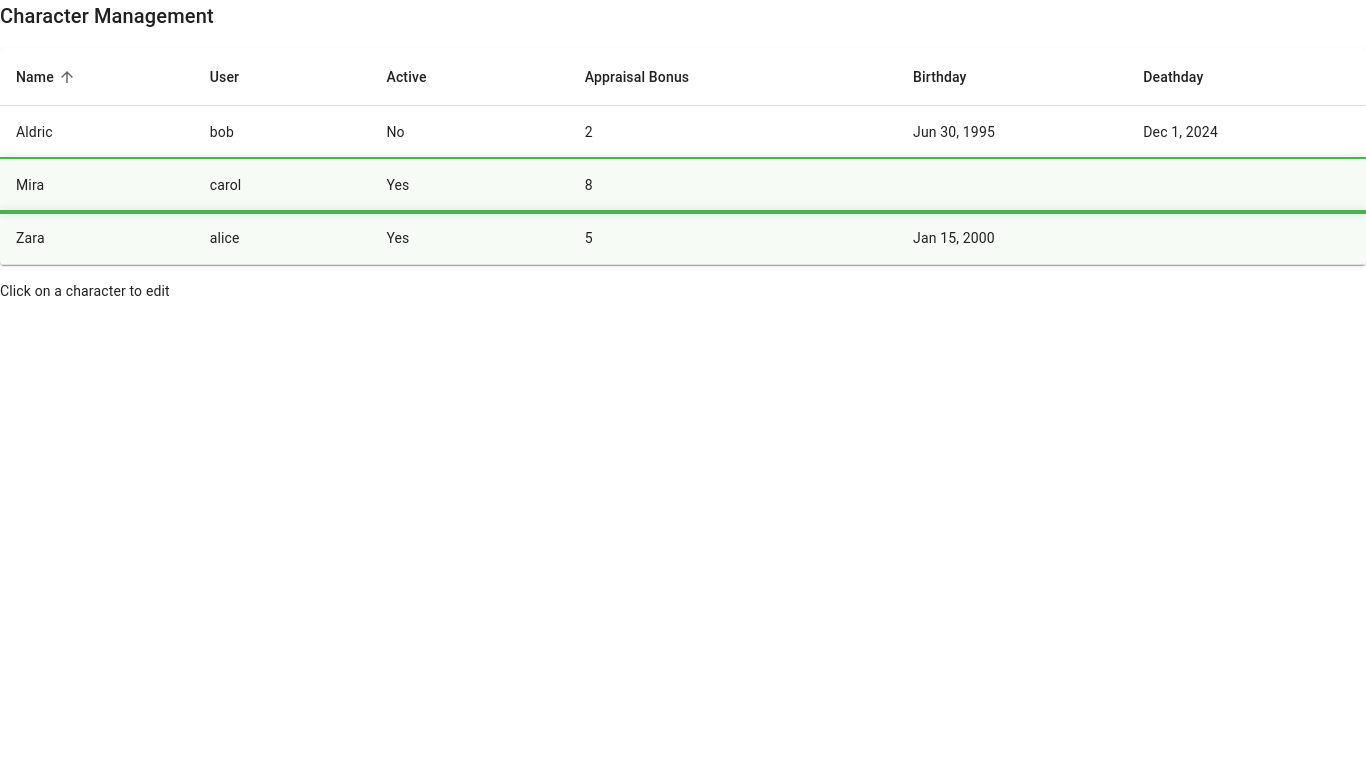
it: CharacterManagement (DMSettings) › opening the edit dialog › opens the dialog populated with the clicked character's values
What coordinates should you click on to do the following:
click the row "Zara"
I would click on:
 (683, 238)
Its box is [0,212,1365,265].
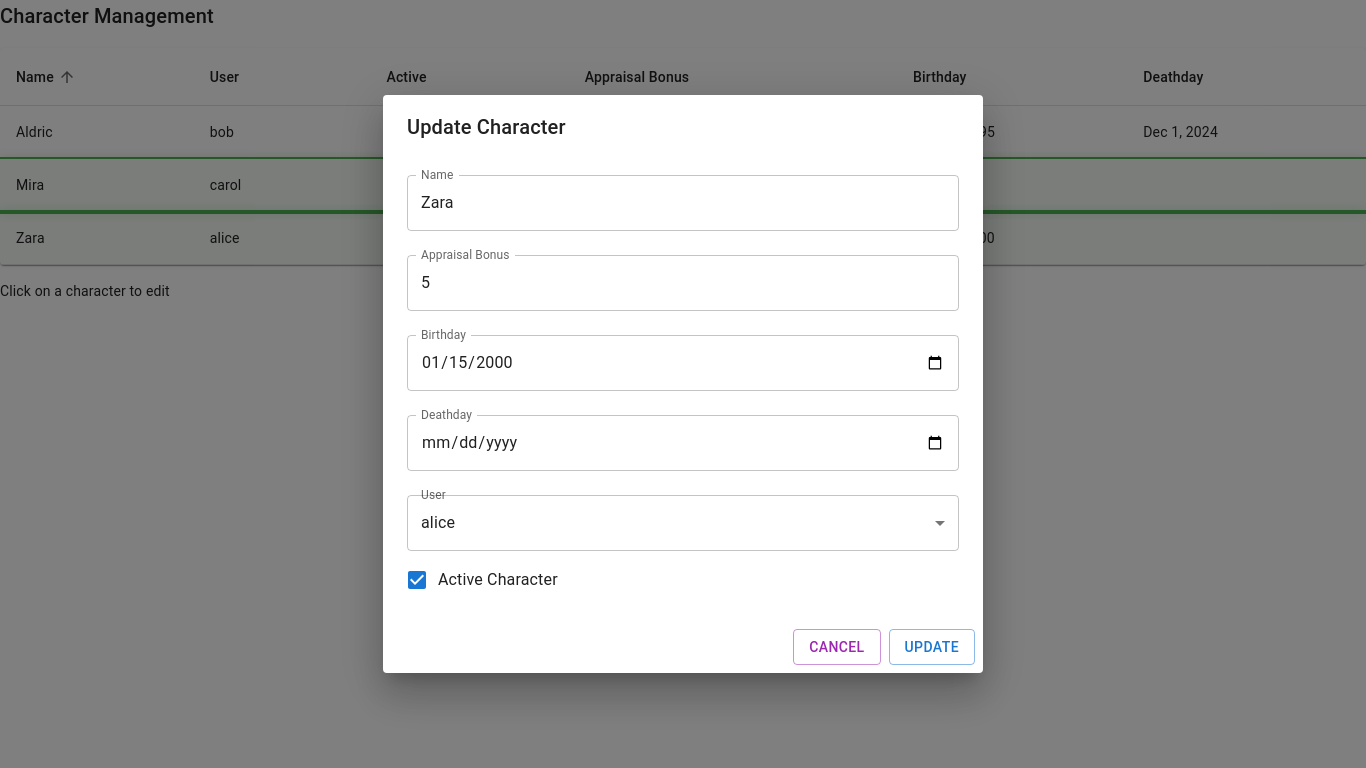
Now the heading "Update Character" is shown, box [407,115,566,139]
Now the field labelled "Name" holds "Zara", box [407,175,959,231]
Now the number field labelled "Appraisal Bonus" holds "5", box [407,255,959,311]
